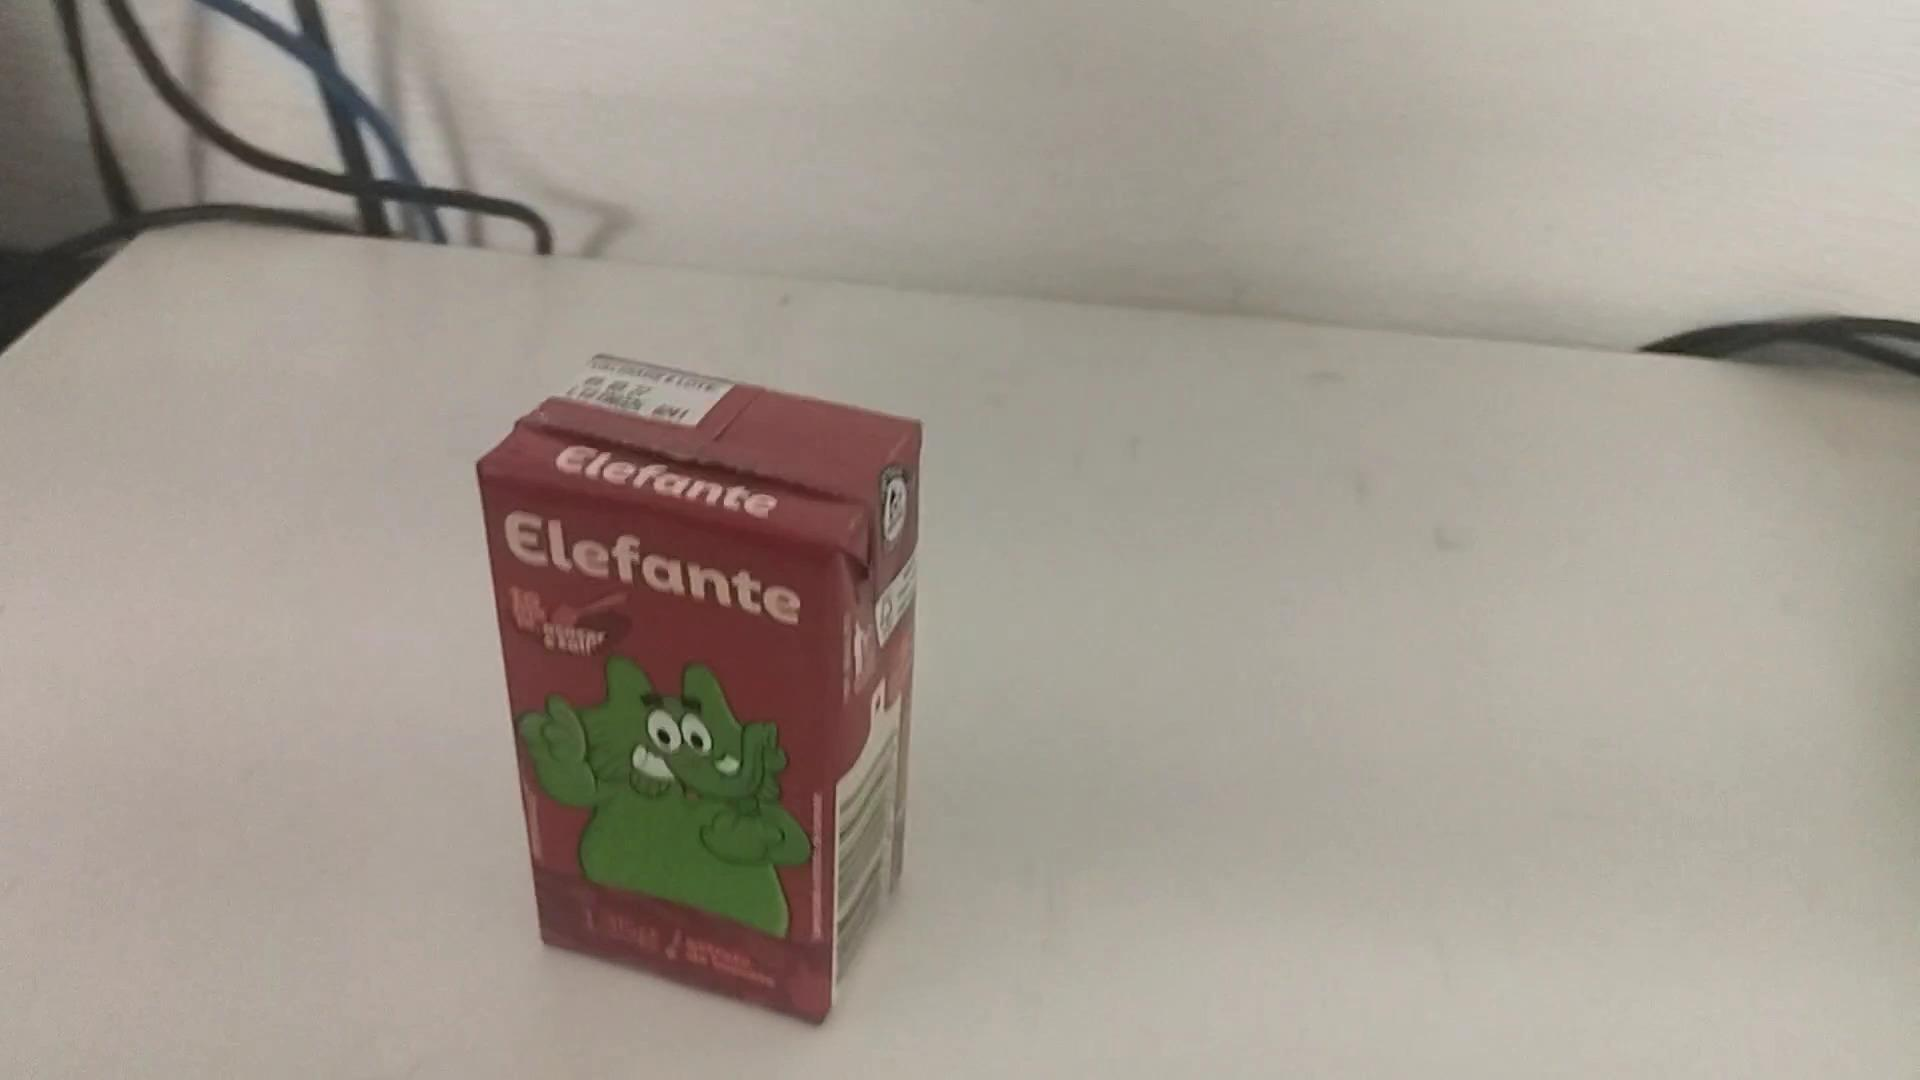tomate: (472, 355, 931, 1026)
